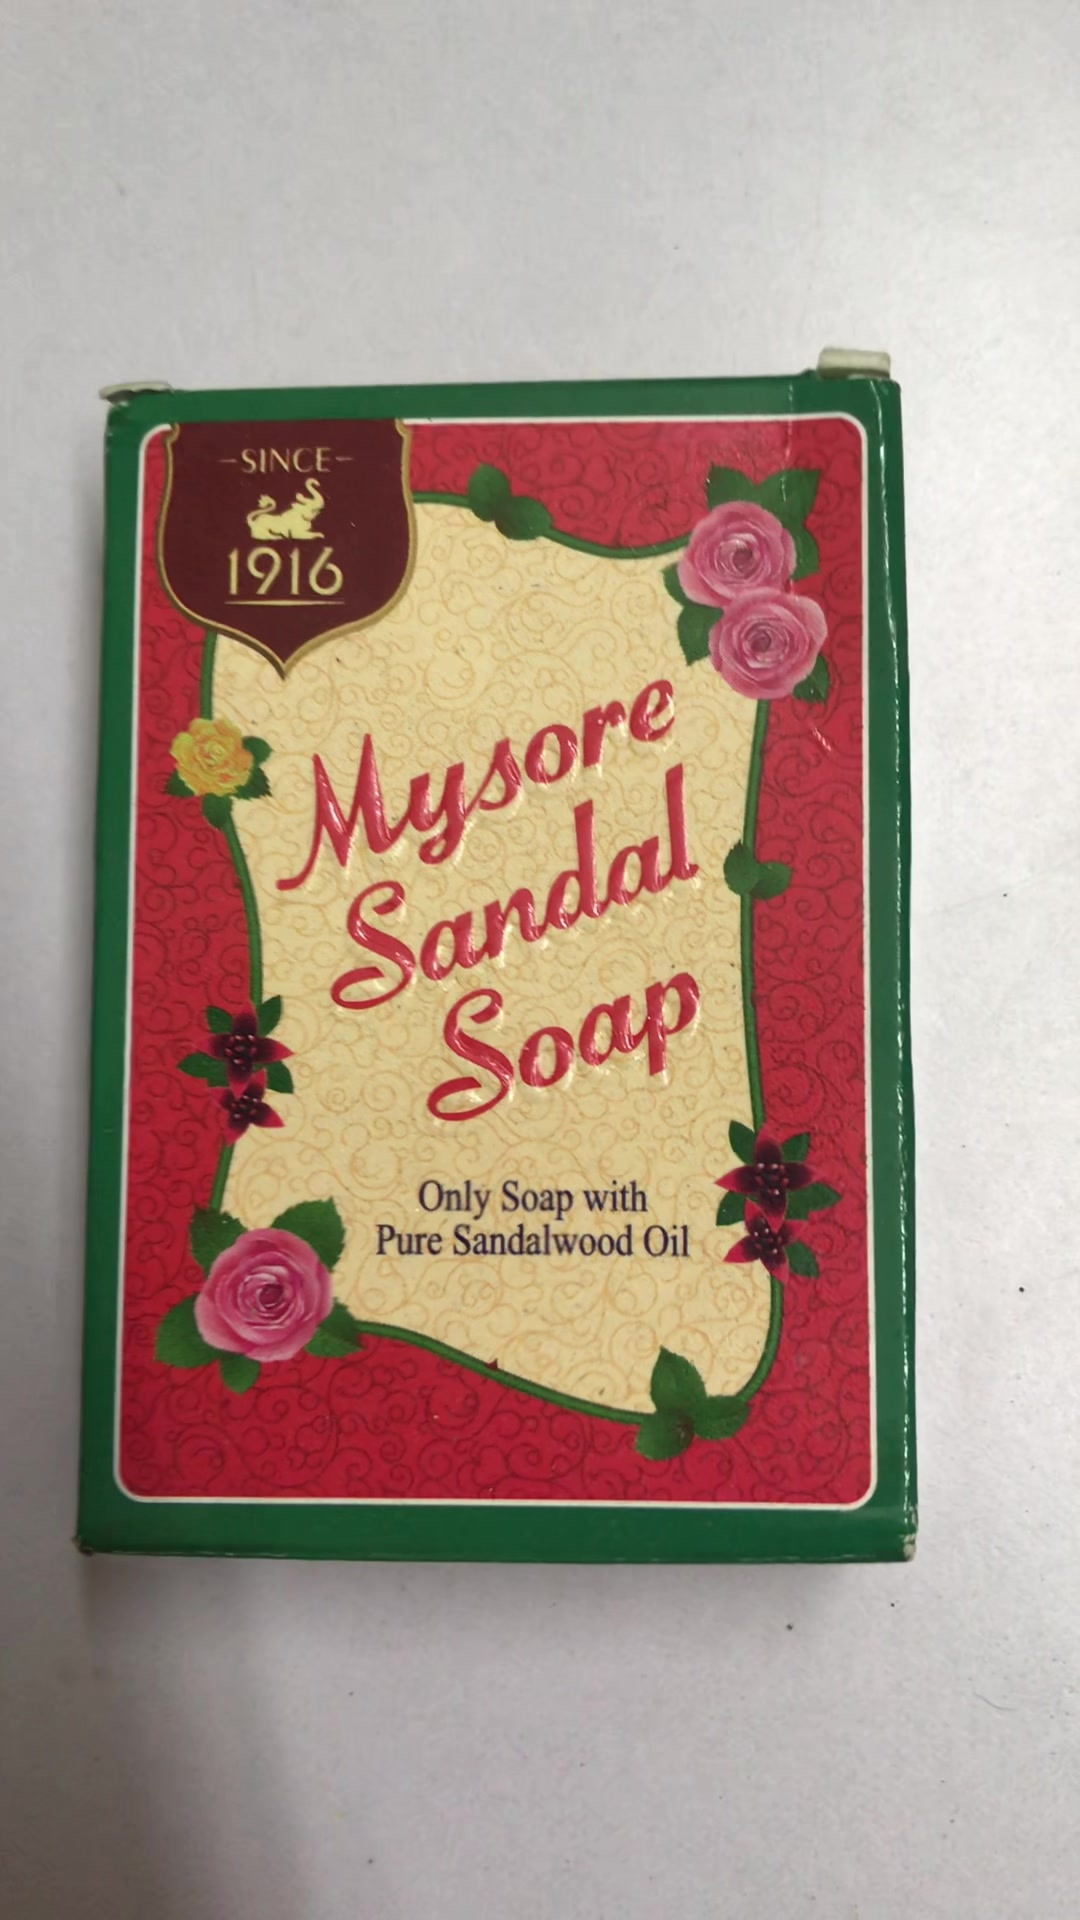mysore sandal soap: (90, 352, 920, 1557)
